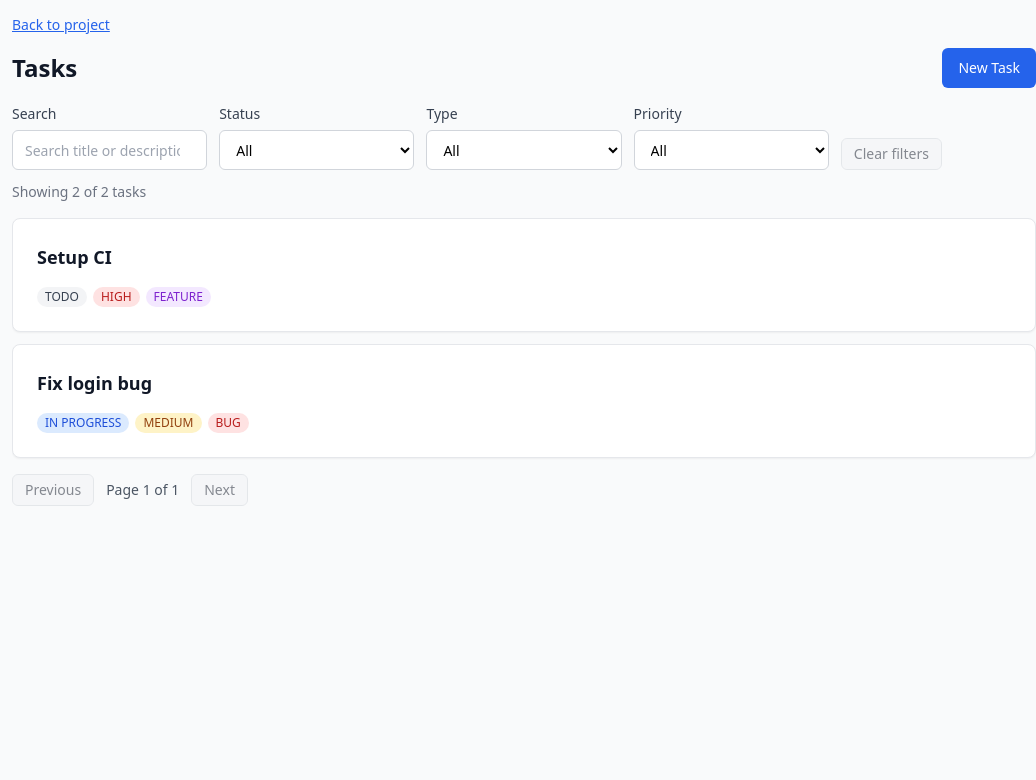
TasksPage › New Task action navigates to the create form (behavior)
Check: the link "Setup CI" is shown, box [37, 245, 112, 269]
Step 1. Click the link "New Task" → (989, 68), box [942, 48, 1035, 88]
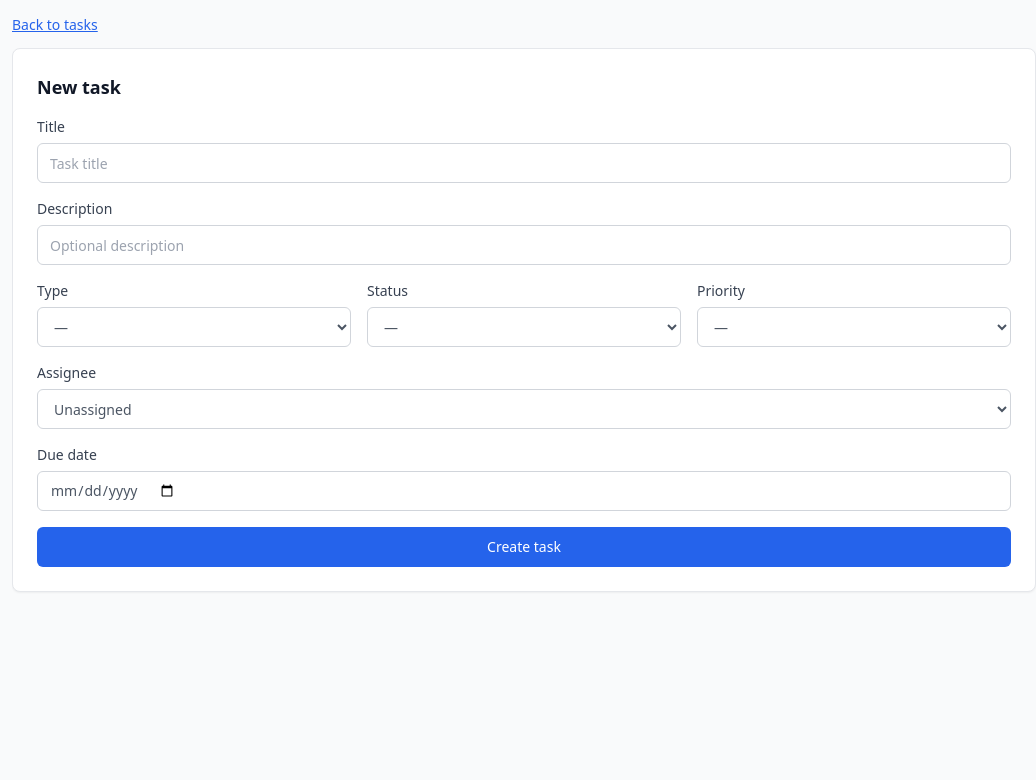
Check: the form named "task form" is shown, box [37, 117, 1011, 567]
